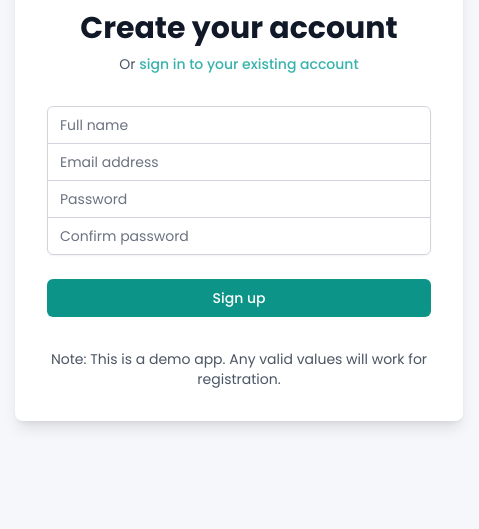
Test case: Register Component › shows error message on registration failure
This screenshot has width=479, height=529.
// Fill and submit the form
Type "Test User" into the field labelled "Full name". click: coordinates (239, 125)
box: [47,106,431,144]
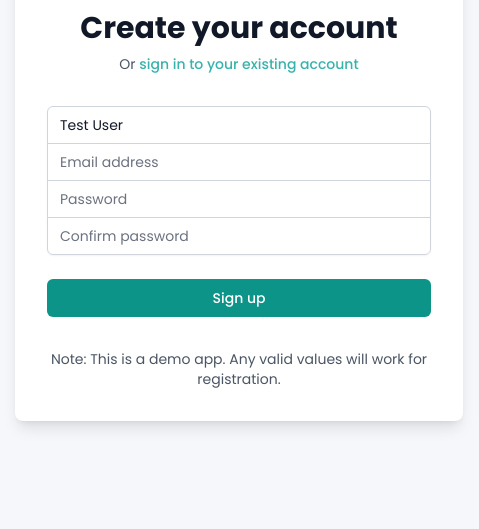
Type "test@example.com" into the field labelled "Email address". click: coordinates (239, 162)
box: [47,143,431,181]
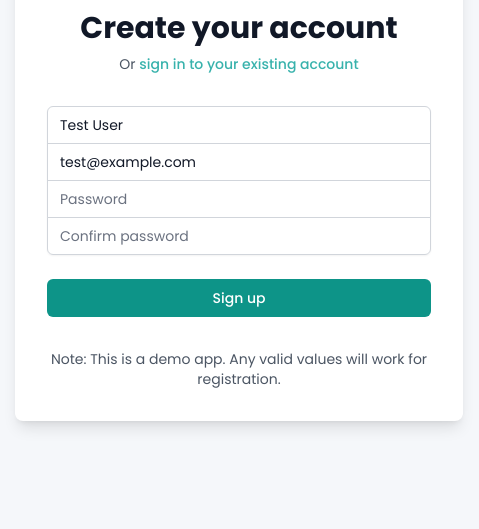
Type "password123" into the password field labelled "Password". click: coordinates (239, 199)
box: [47,180,431,218]
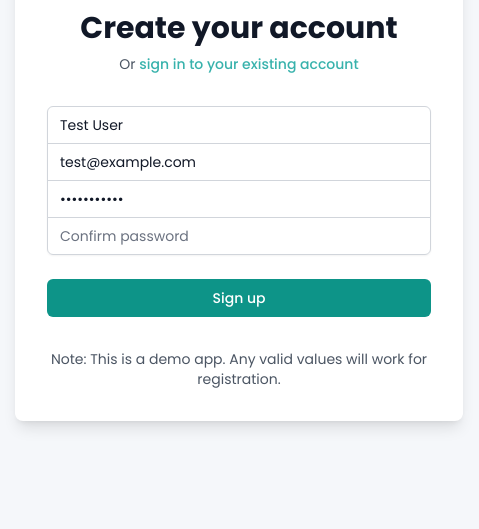
Type "password123" into the password field labelled "Confirm password". click: coordinates (239, 236)
box: [47,217,431,255]
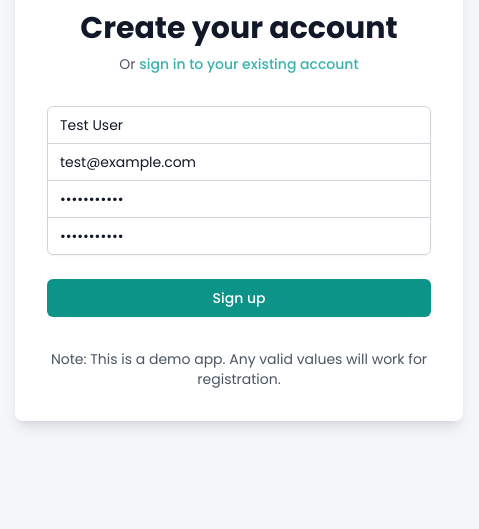
Click the button "Sign up". click: coordinates (239, 298)
box: [47,279,431,317]
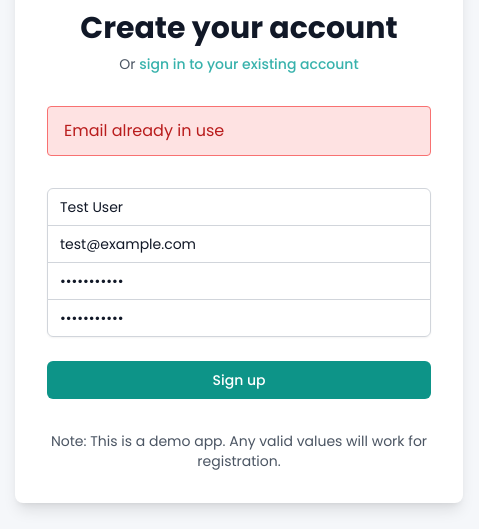
Result: the text "Email already in use" is shown at [64,119,224,142]
